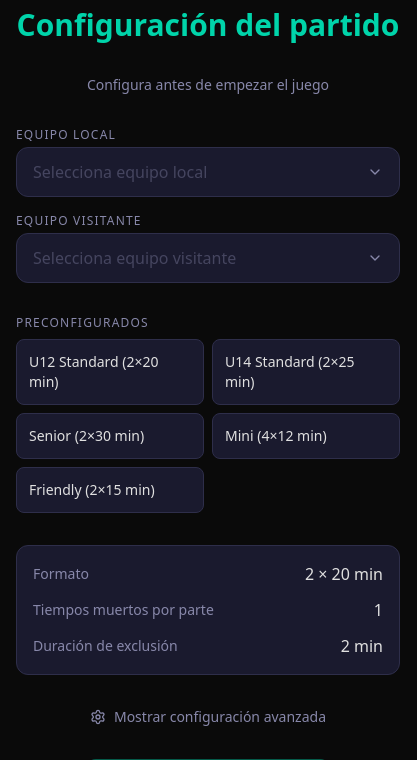
MatchSetup › toggles advanced settings
Check: the text "Partes" is not shown
What coordinates should you click on to do the following:
click the button "Mostrar configuración avanzada"
I would click on:
 (208, 717)
Its box is [90, 707, 326, 727].
(page scrolled)
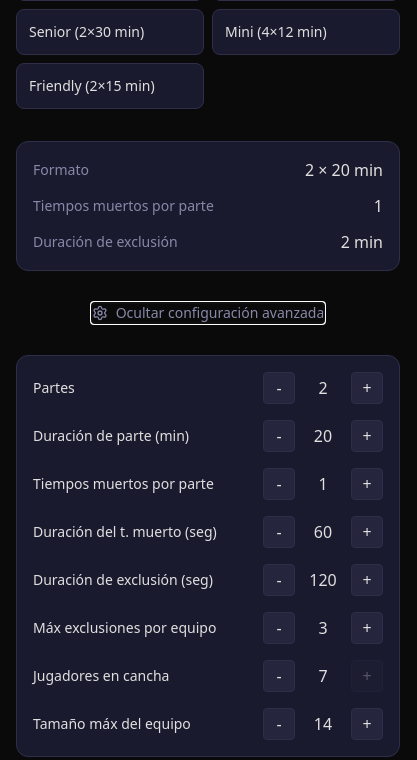
Check: the text "Partes" is shown, box [33, 378, 75, 398]
